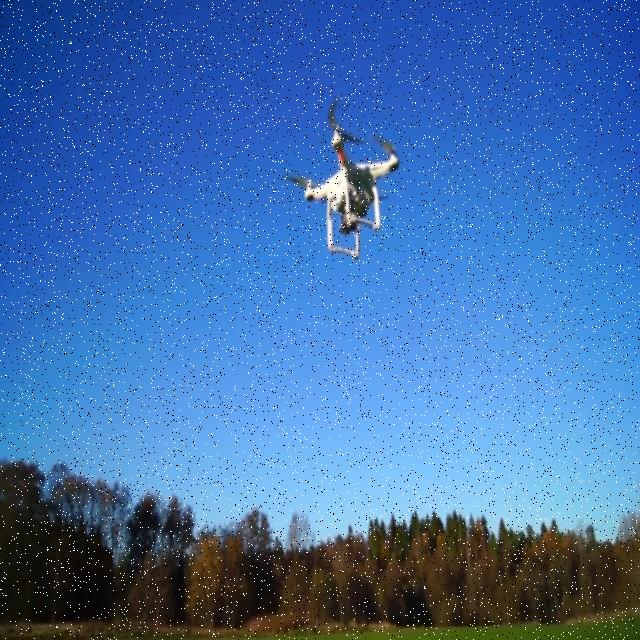UAV: (282, 98, 399, 260)
